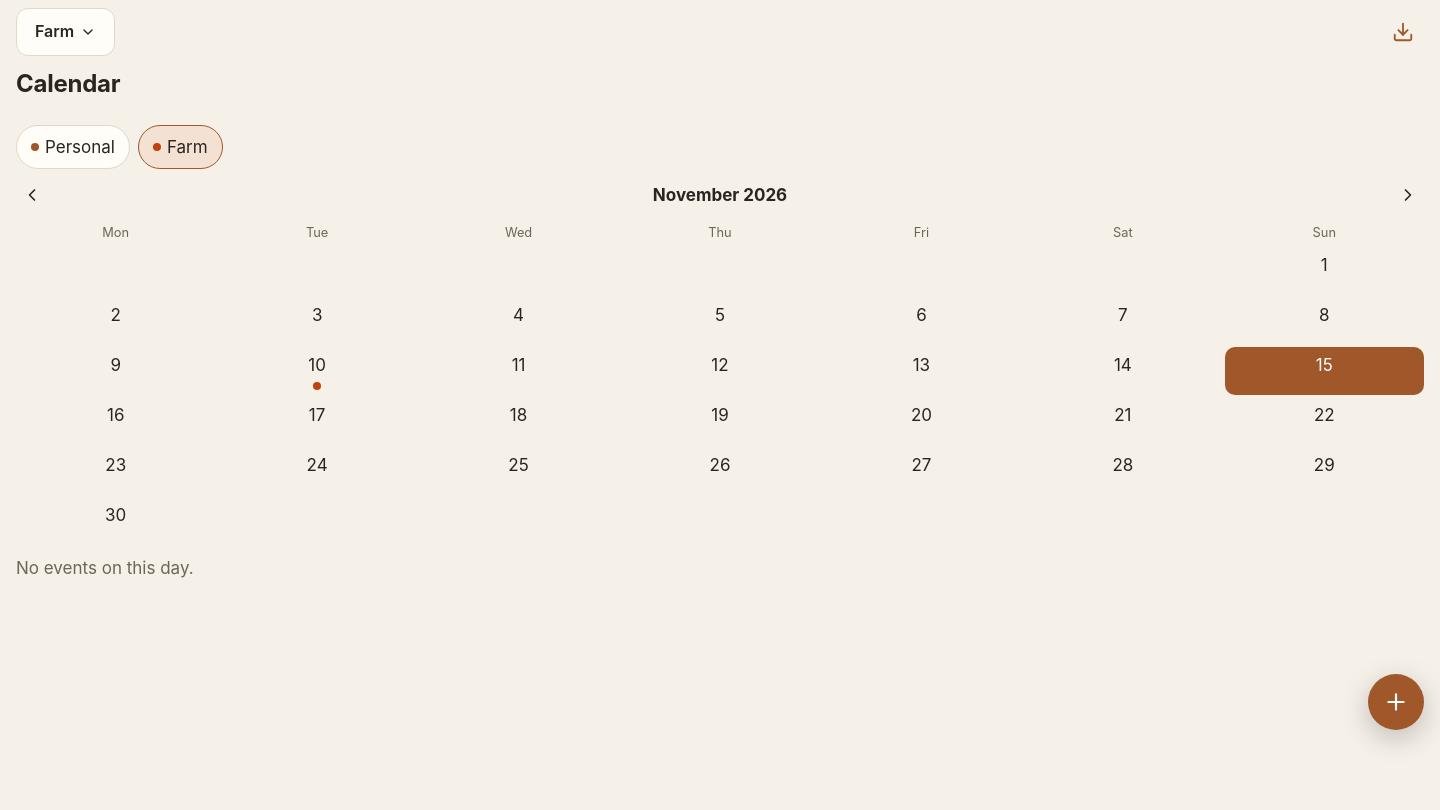
Test case: CalendarPage › a newly joined layer is visible when only others were switched off
Click the button named "2026-11-10" at (317, 371), box [217,347,417,395]
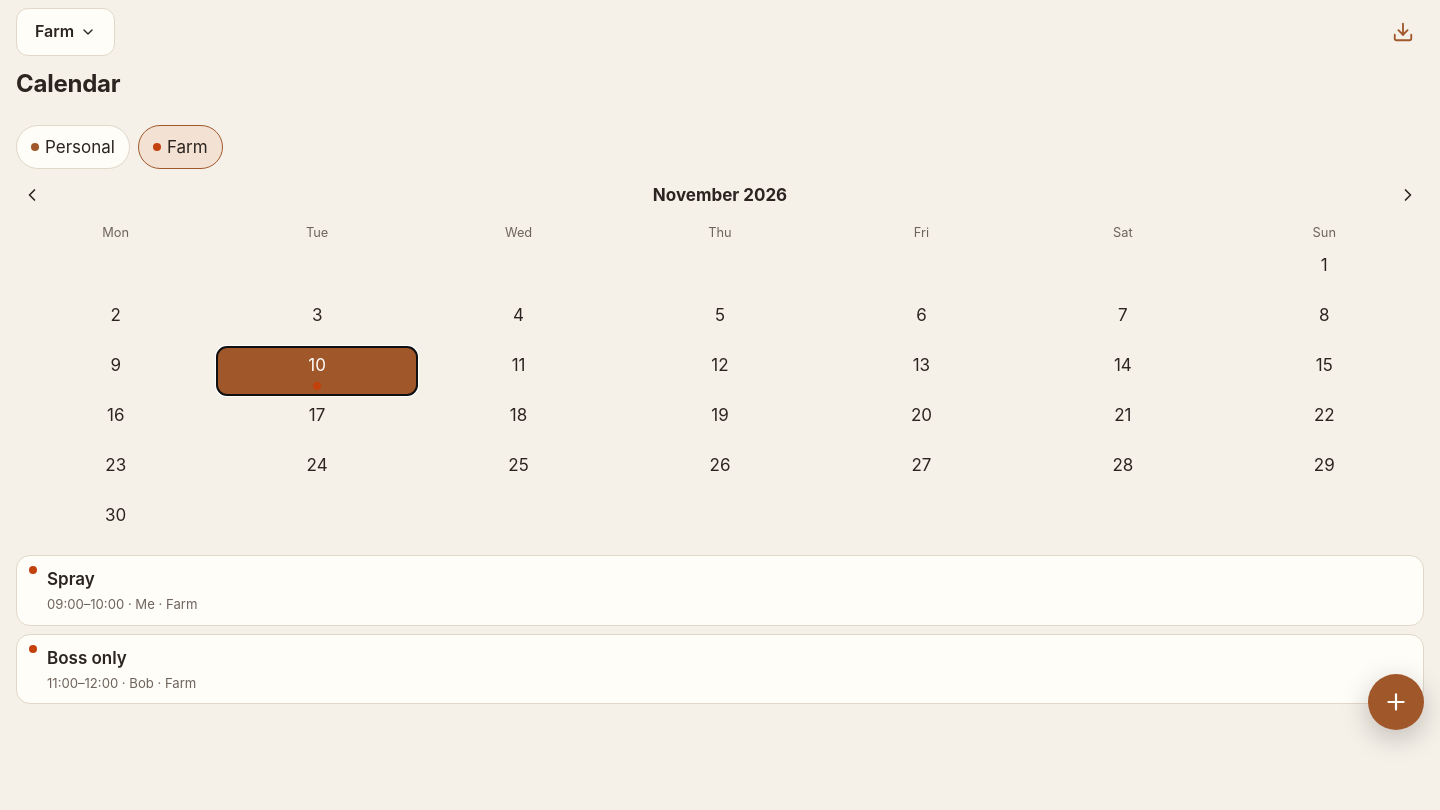
Expected: the text "Spray" is shown, [47,569,95,589]
